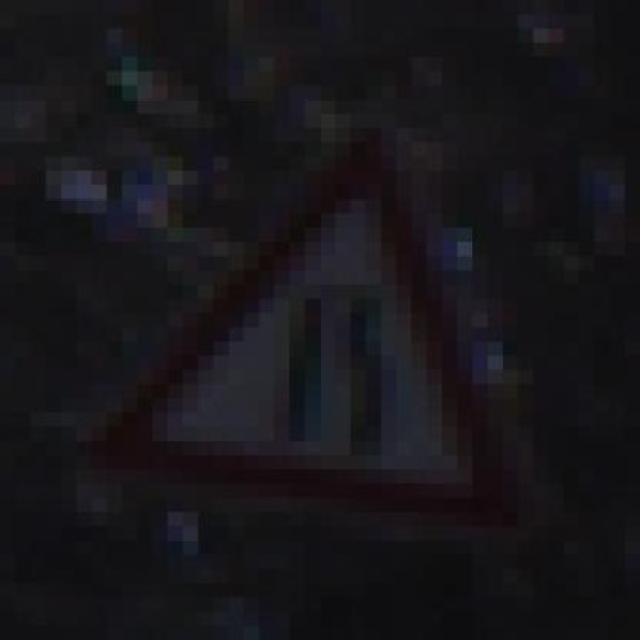-Road narrows on right: (92, 128, 533, 540)
